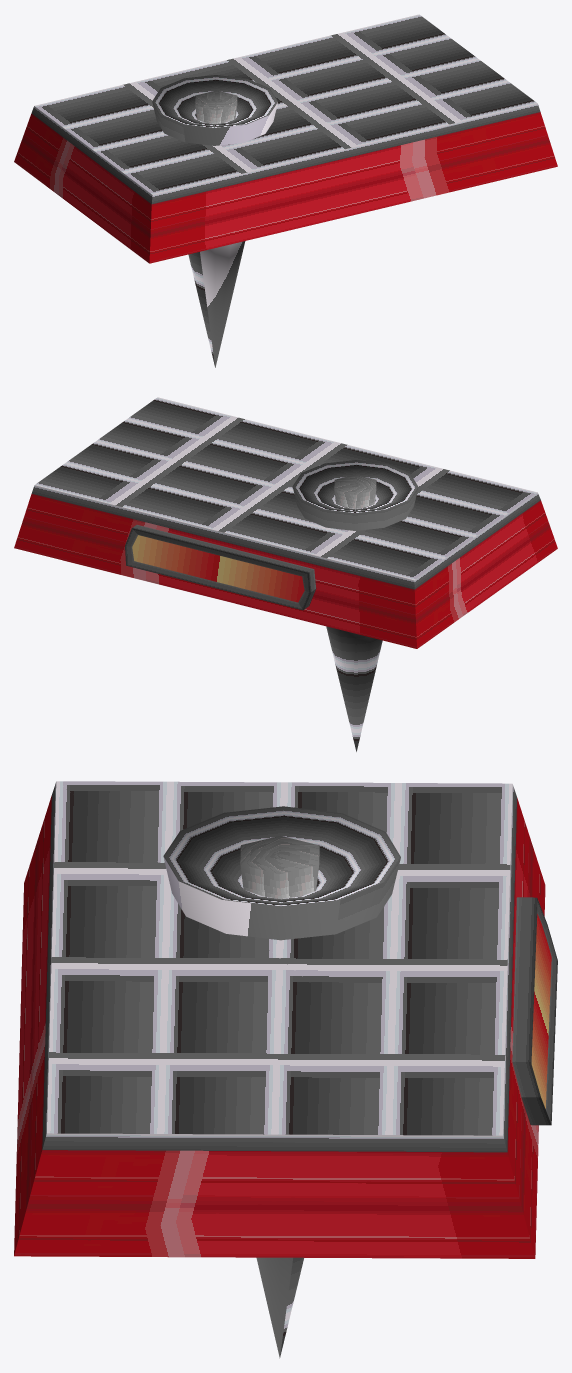
The model's file is 1368item2758.gltf.
3 renders of one model, top to bottom at view 1: azimuth 30°, elevation 25°; view 2: azimuth 150°, elevation 25°; view 3: azimuth 270°, elevation 25°, orthographic. The views are drawn at different scales.
Parts seen in each view (by area): view 1: 1368item2758; view 2: 1368item2758; view 3: 1368item2758.
Boxes of the visible parts, left/top/right/bottom form: 1368item2758: left=14, top=14, right=557, bottom=367; 1368item2758: left=14, top=397, right=557, bottom=751; 1368item2758: left=14, top=781, right=557, bottom=1358.
Size of the model in its own units: 1.44 by 0.9021 by 0.8811.
6 materials, 6 textured.
